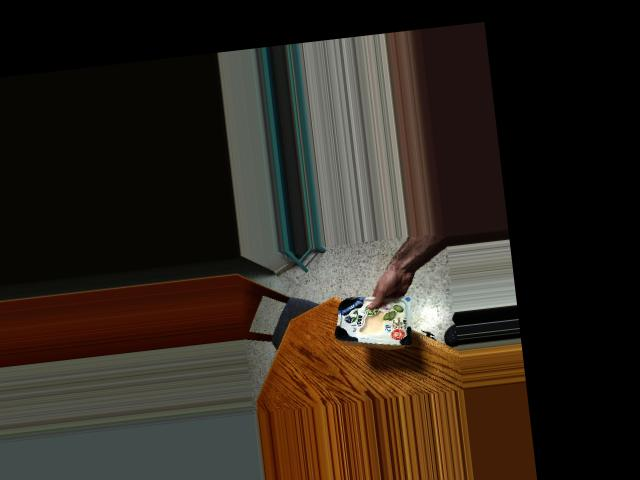cheese: (331, 288, 414, 355)
